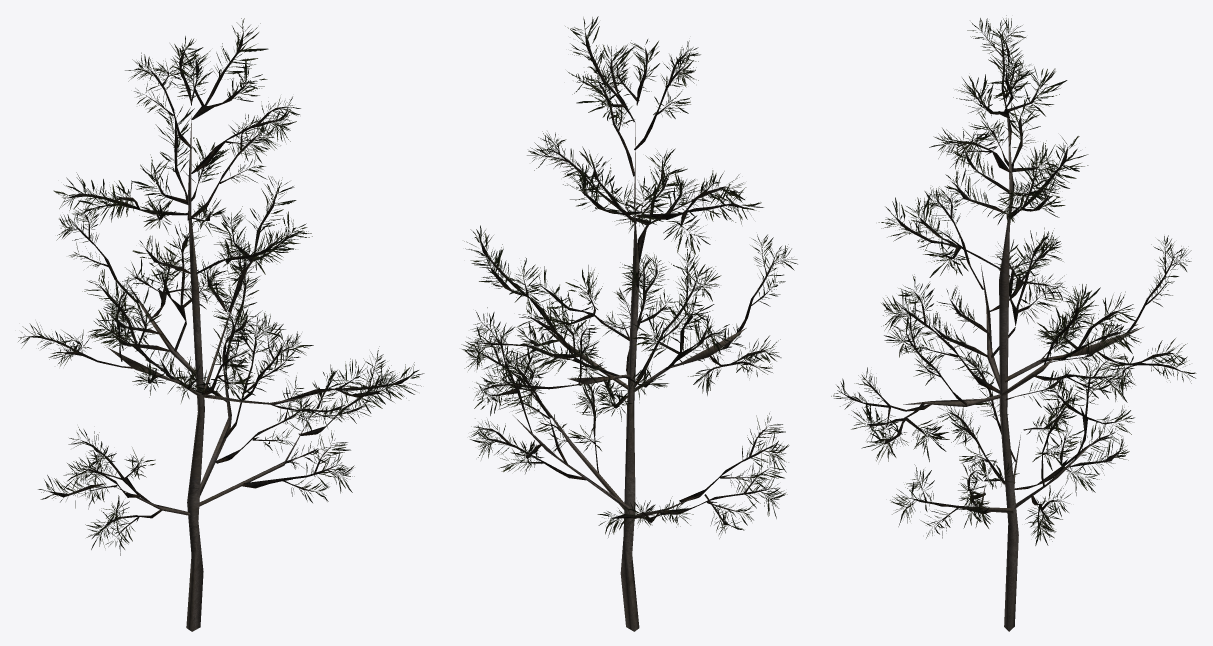
The model's file is pine_sapling_small_a.glb.
3 views of the same model, side by side, from view 1: azimuth 30°, elevation 25°; view 2: azimuth 150°, elevation 25°; view 3: azimuth 270°, elevation 25° (orthographic).
Parts seen in each view (by area): view 1: pine_sapling_small_a; view 2: pine_sapling_small_a; view 3: pine_sapling_small_a.
Boxes of the visible parts, bbox=[...] form: pine_sapling_small_a: bbox=[18, 18, 424, 631]; pine_sapling_small_a: bbox=[461, 16, 797, 631]; pine_sapling_small_a: bbox=[831, 15, 1196, 631].
Bounding box in the file's own units: 0.7856 × 1.3 × 0.7261.
2 materials, 2 textured.
